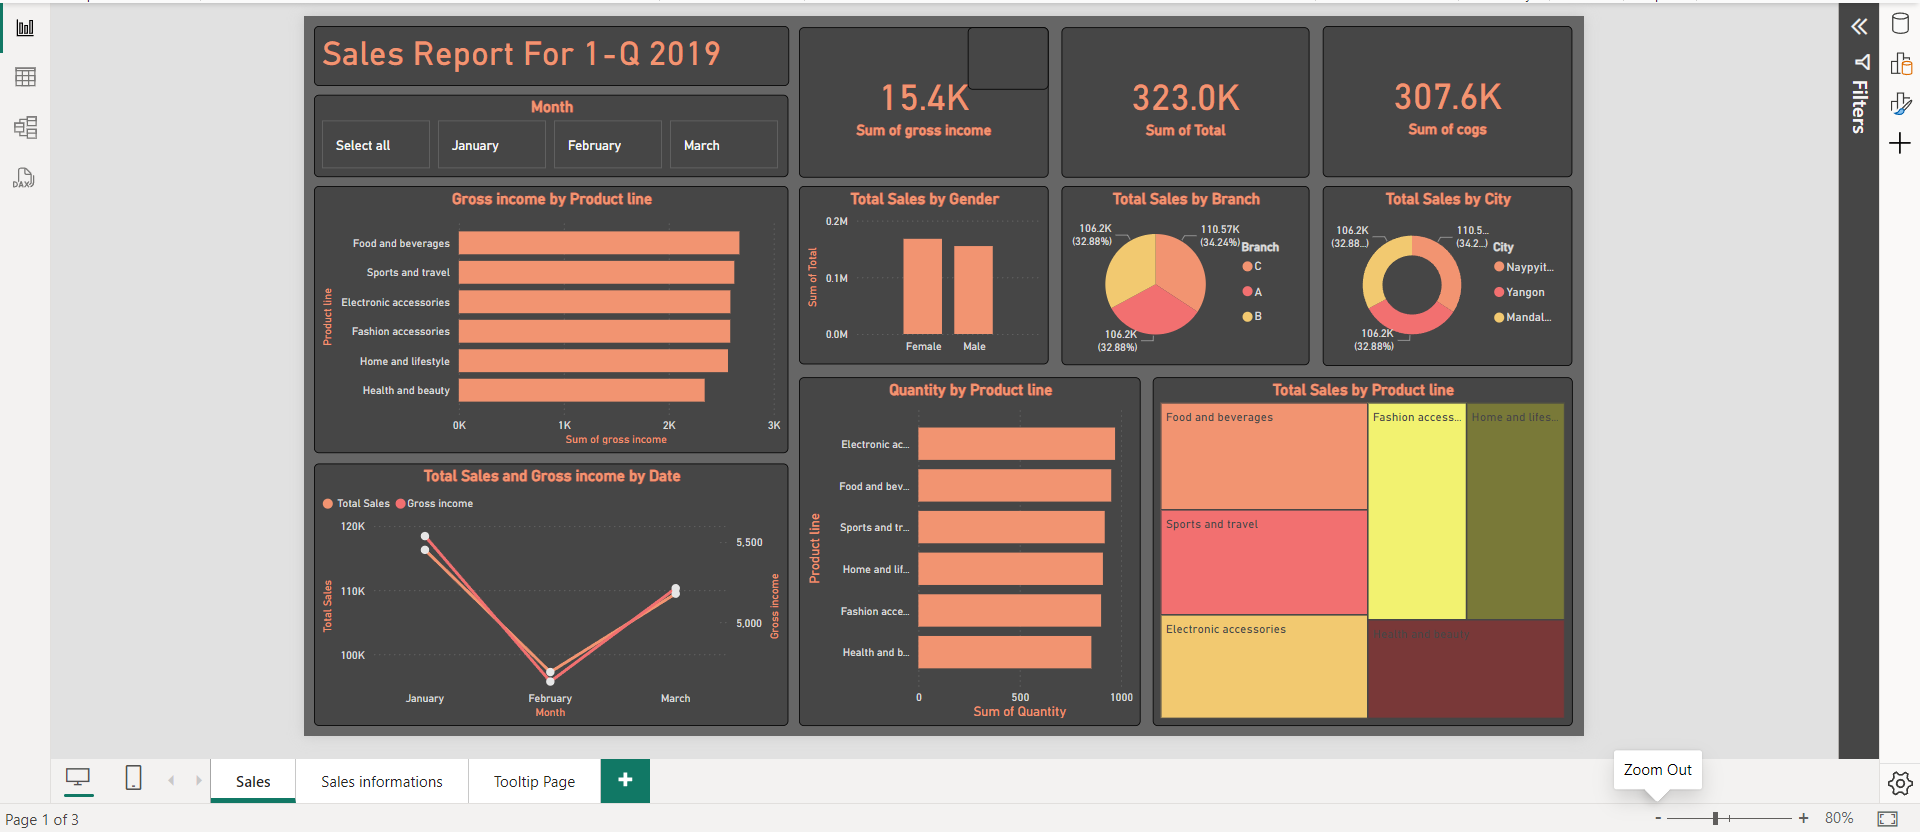

This screenshot's page, from the dashboard's own definition file:
{"tool":"powerbi","page":{"name":"Sales","canvas":[1280,720],"ordinal":0},"visuals":[{"type":"card","fields":{"Values":["Sum(supermarket_sales.gross income)"]},"box":[494.9,11.5,249.6,150],"z":0},{"type":"card","fields":{"Values":["Sum(supermarket_sales.cogs)"]},"box":[1018.6,10.1,249.6,151.5],"z":1000},{"type":"pieChart","title":"Total Sales by Branch","fields":{"Category":["supermarket_sales.Branch"],"Y":["Sum(supermarket_sales.Total)"]},"box":[757.4,170,248.2,178.9],"z":2000},{"type":"card","fields":{"Values":["Sum(supermarket_sales.Total)"]},"box":[757.4,11.5,248.2,150],"z":3000},{"type":"donutChart","title":"Total Sales by City","fields":{"Category":["supermarket_sales.City"],"Y":["Sum(supermarket_sales.Total)"]},"box":[1018.6,170,249.6,180.3],"z":4000},{"type":"treemap","title":"Total Sales by Product line","fields":{"Group":["supermarket_sales.Product line"],"Values":["Sum(supermarket_sales.Total)"]},"box":[848.3,360.7,419.8,349.1],"z":5000},{"type":"clusteredColumnChart","title":"Total Sales by Gender","fields":{"Category":["supermarket_sales.Gender"],"Y":["Sum(supermarket_sales.Total)"]},"box":[494.9,170,249.6,178],"z":6000},{"type":"lineChart","title":"Total Sales and Gross income by Date","fields":{"Y":["Sum(supermarket_sales.Total)"],"Category":["supermarket_sales.Date Hierarchy.Year","supermarket_sales.Date Hierarchy.Quarter","supermarket_sales.Date Hierarchy.Month","supermarket_sales.Date Hierarchy.Day"],"Y2":["Sum(supermarket_sales.gross income)"]},"box":[10.1,447.3,474.7,262.6],"z":7000},{"type":"clusteredBarChart","title":"Gross income by Product line","fields":{"Category":["supermarket_sales.Product line"],"Y":["Sum(supermarket_sales.gross income)"]},"box":[10.1,170.2,474.7,266.9],"z":8000},{"type":"clusteredBarChart","title":"Quantity by Product line","fields":{"Category":["supermarket_sales.Product line"],"Y":["Sum(supermarket_sales.Quantity)"]},"box":[494.9,360.7,341.9,349.1],"z":9000},{"type":"textbox","box":[10.1,10.1,475,60],"z":10000},{"type":"advancedSlicerVisual","title":"Month ","fields":{"Values":["supermarket_sales.Date Hierarchy.Month"]},"box":[10.1,79.4,474.7,82.2],"z":11000},{"type":"card","fields":{"Values":["Min(supermarket_sales.Tooltip)"]},"box":[663.7,11.5,80.8,62],"z":12000}]}

Visuals, with their boxes on the page's 1280x720 design canvas (x1, y1, x2, y2). These are canvas units, not pixel positions in the 1920x832 screenshot, which may show the page scaled, cropped or inside an application window:
card - Sum(supermarket_sales.gross income): <box>495,12,744,162</box>
card - Sum(supermarket_sales.cogs): <box>1019,10,1268,162</box>
"Total Sales by Branch" pieChart: <box>757,170,1006,349</box>
card - Sum(supermarket_sales.Total): <box>757,12,1006,162</box>
"Total Sales by City" donutChart: <box>1019,170,1268,350</box>
"Total Sales by Product line" treemap: <box>848,361,1268,710</box>
"Total Sales by Gender" clusteredColumnChart: <box>495,170,744,348</box>
"Total Sales and Gross income by Date" lineChart: <box>10,447,485,710</box>
"Gross income by Product line" clusteredBarChart: <box>10,170,485,437</box>
"Quantity by Product line" clusteredBarChart: <box>495,361,837,710</box>
textbox: <box>10,10,485,70</box>
"Month " advancedSlicerVisual: <box>10,79,485,162</box>
card - Min(supermarket_sales.Tooltip): <box>664,12,744,74</box>
